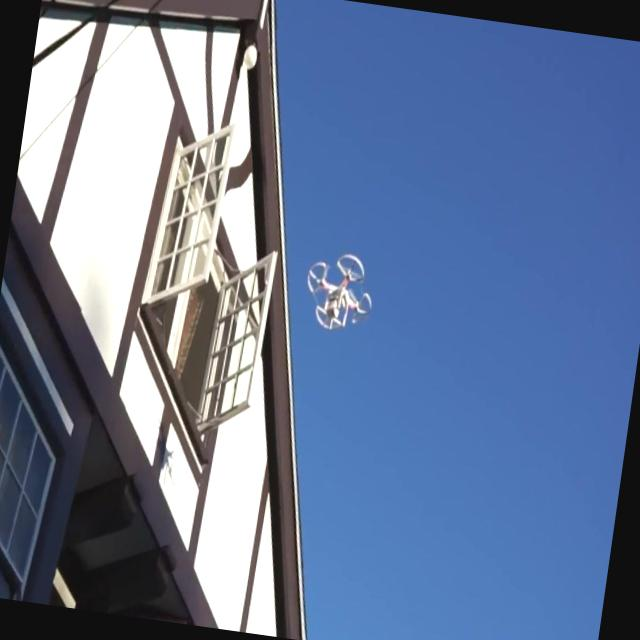drone: (298, 248, 378, 338)
